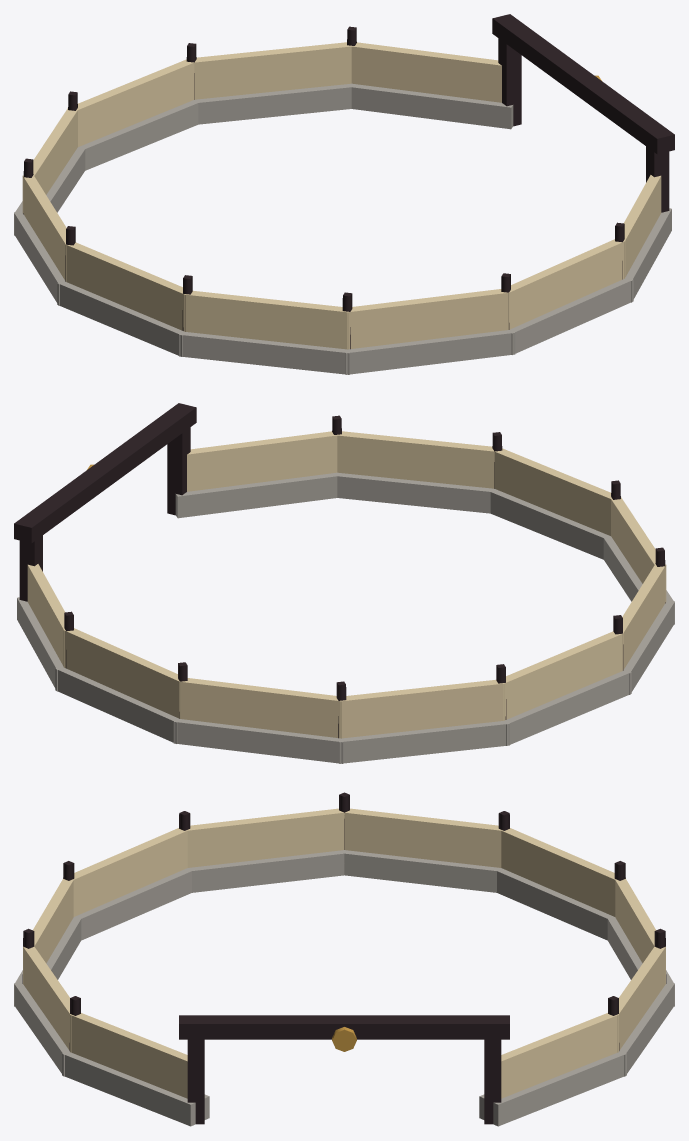
Rendered from base_builder_walls_1.glb.
The picture shows the model from 3 angles, top to bottom: view 1: azimuth 30°, elevation 25°; view 2: azimuth 150°, elevation 25°; view 3: azimuth 270°, elevation 25°; orthographic projection.
Visible parts, largest first — view 1: wall_6_planks, wall_7_planks, wall_1_planks, wall_0_planks, gate_beam, wall_5_planks, wall_8_planks, wall_2_planks, wall_6, wall_7, wall_0, wall_1 (+11 smaller); view 2: wall_3_planks, wall_2_planks, wall_8_planks, wall_9_planks, gate_beam, wall_4_planks, wall_1_planks, wall_7_planks, wall_3, wall_2, wall_9, wall_8 (+11 smaller); view 3: gate_beam, wall_4_planks, wall_5_planks, wall_0_planks, wall_9_planks, wall_3_planks, wall_6_planks, wall_4, wall_5, wall_0, wall_9, wall_3 (+11 smaller).
Part boxes in pixels (<box>): wall_6_planks: <box>184,290,348,349</box>; wall_7_planks: <box>347,289,509,349</box>; wall_1_planks: <box>190,42,351,99</box>; wall_0_planks: <box>348,42,501,102</box>; gate_beam: <box>492,14,674,154</box>; wall_5_planks: <box>65,242,192,331</box>; wall_8_planks: <box>508,239,625,329</box>; wall_2_planks: <box>76,59,195,146</box>; wall_6: <box>179,331,351,374</box>; wall_7: <box>345,329,515,374</box>; wall_0: <box>343,83,513,129</box>; wall_1: <box>189,83,359,124</box>; wall_3_planks: <box>340,679,504,738</box>; wall_2_planks: <box>179,678,341,738</box>; wall_8_planks: <box>336,431,498,488</box>; wall_9_planks: <box>187,431,340,491</box>; gate_beam: <box>14,403,196,543</box>; wall_4_planks: <box>496,631,623,720</box>; wall_1_planks: <box>63,628,180,718</box>; wall_7_planks: <box>492,448,612,535</box>; wall_3: <box>337,719,509,763</box>; wall_2: <box>173,719,343,763</box>; wall_9: <box>175,473,341,518</box>; wall_8: <box>329,472,499,513</box>; gate_beam: <box>179,1015,509,1039</box>; wall_4_planks: <box>341,808,502,867</box>; wall_5_planks: <box>185,808,347,867</box>; wall_0_planks: <box>501,1013,618,1098</box>; wall_9_planks: <box>70,1013,187,1098</box>; wall_3_planks: <box>499,828,615,916</box>; wall_6_planks: <box>73,828,187,916</box>; wall_4: <box>336,850,505,892</box>; wall_5: <box>182,850,350,892</box>; wall_0: <box>479,1050,626,1126</box>; wall_9: <box>62,1050,209,1126</box>; wall_3: <box>491,867,616,940</box>.
Bounding box in the file's own units: 0.9126 × 0.1625 × 0.9627.
